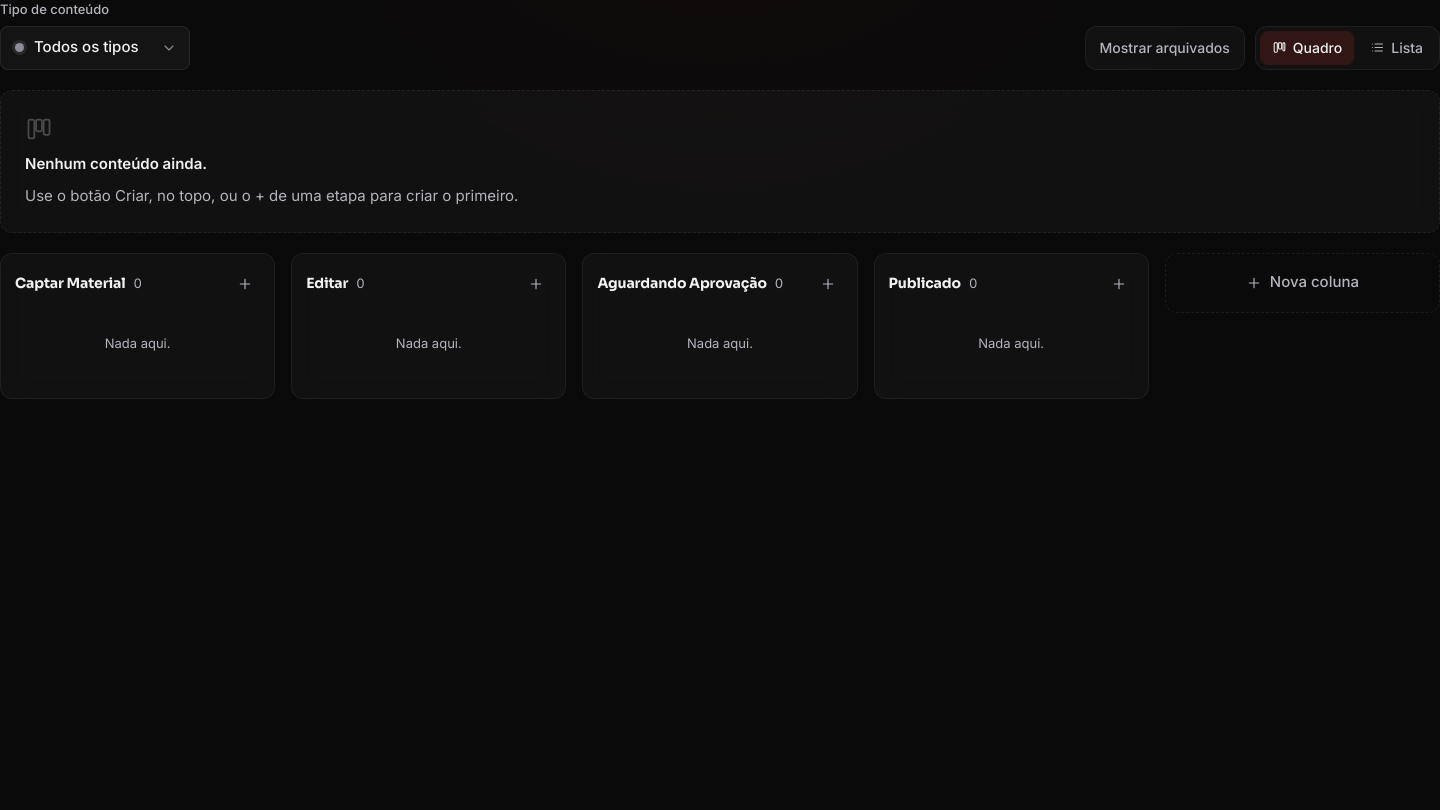
ConteudoPage › não salva sem título
The width and height of the screenshot is (1440, 810).
Click the button named "Adicionar em Captar Material" at (245, 284), box [230, 268, 260, 298]
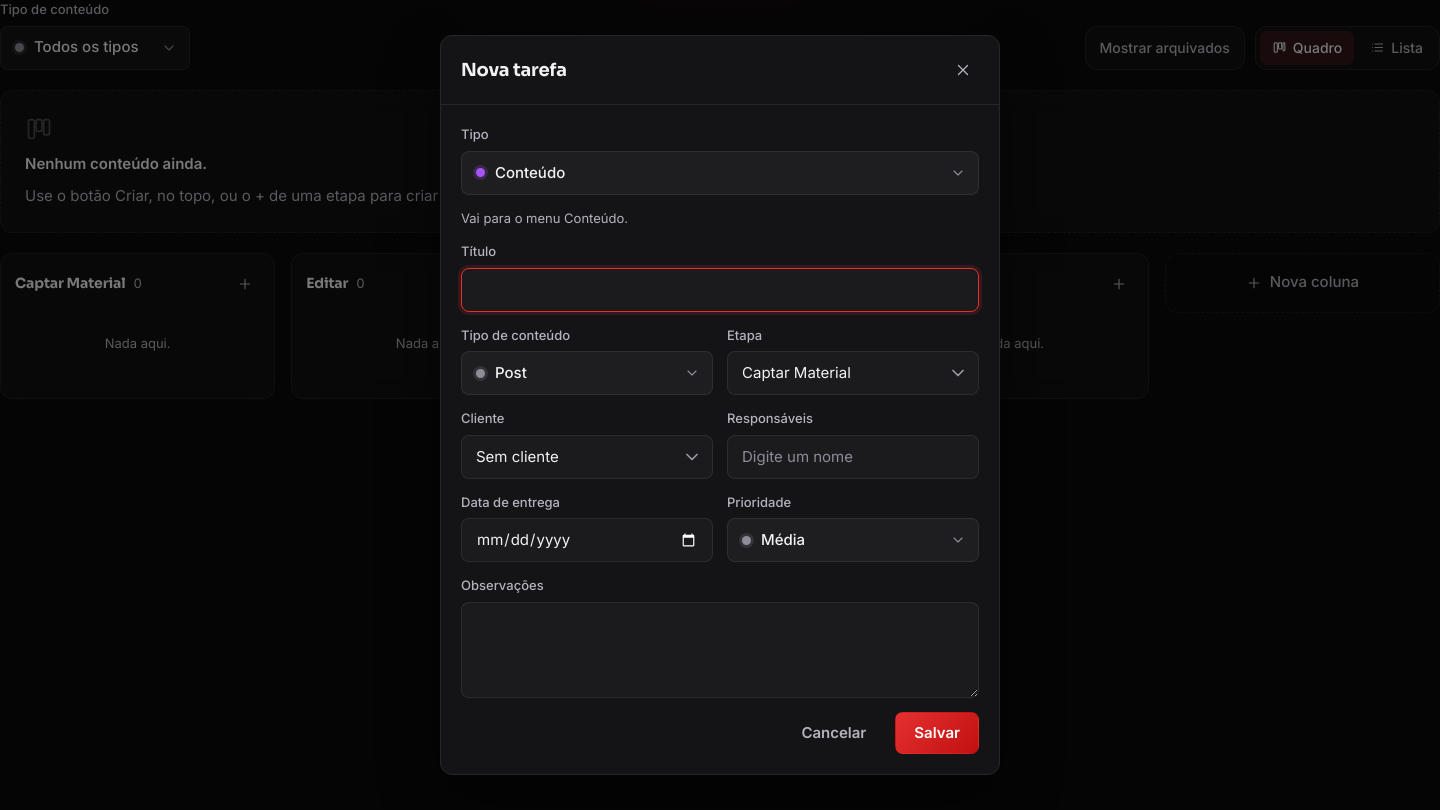
Click the button "Salvar" at (937, 733), box [895, 712, 979, 754]
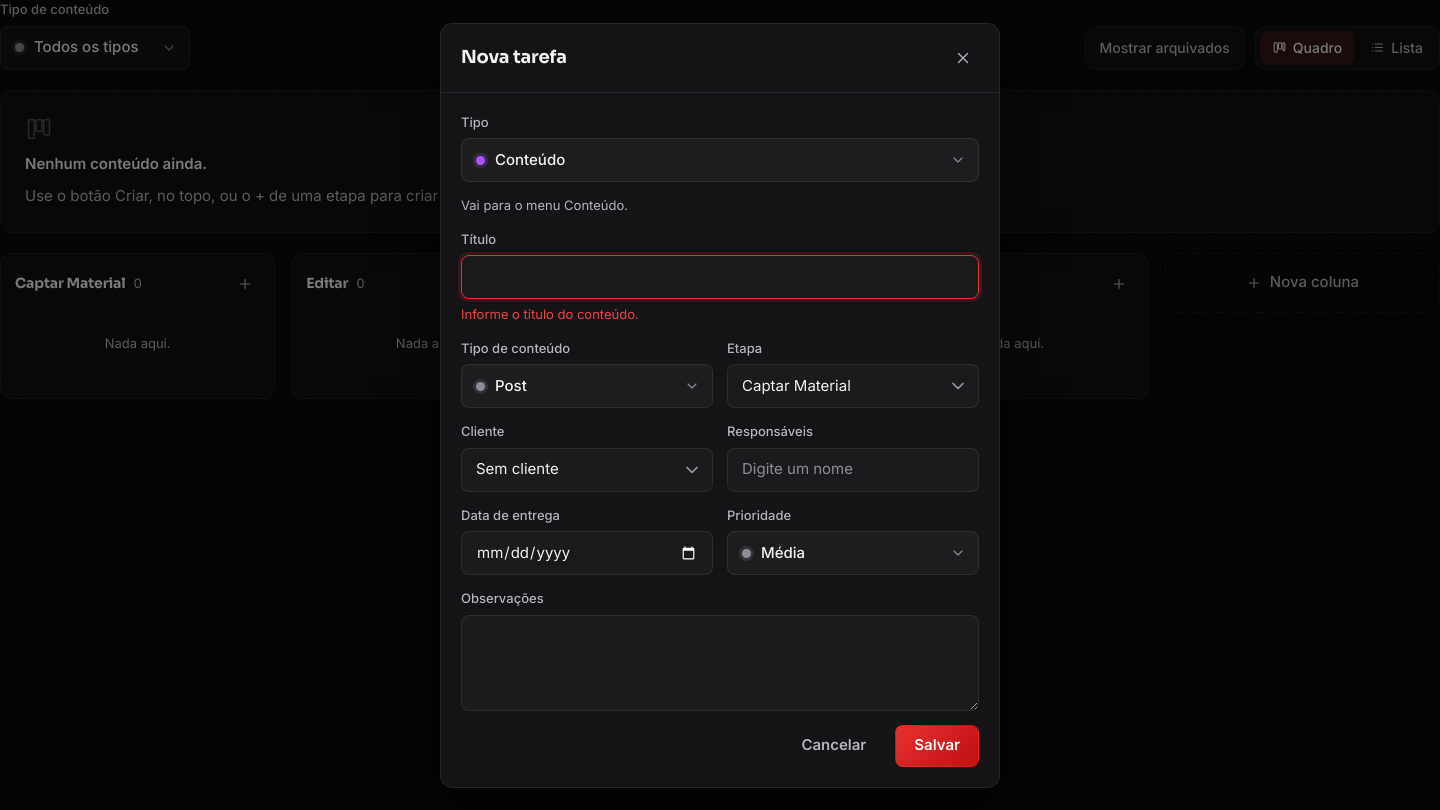
Now the text "Informe o título do conteúdo." is shown, box [461, 306, 639, 322]
